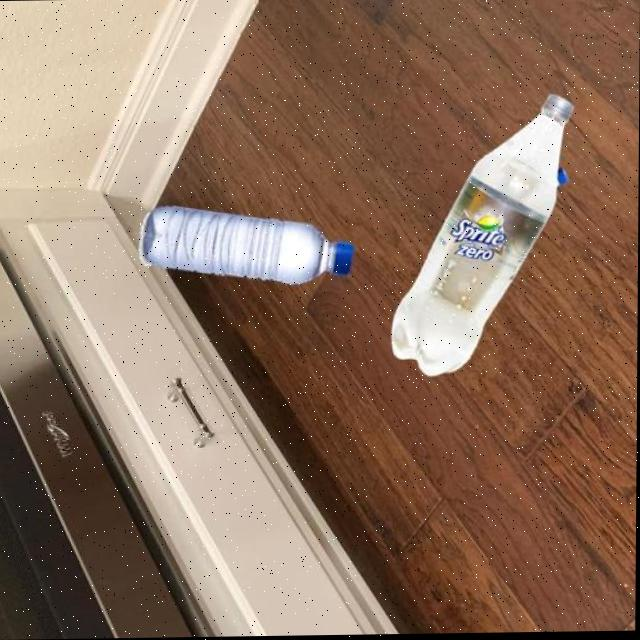bottle: (389, 94, 576, 379), (137, 203, 355, 289)
